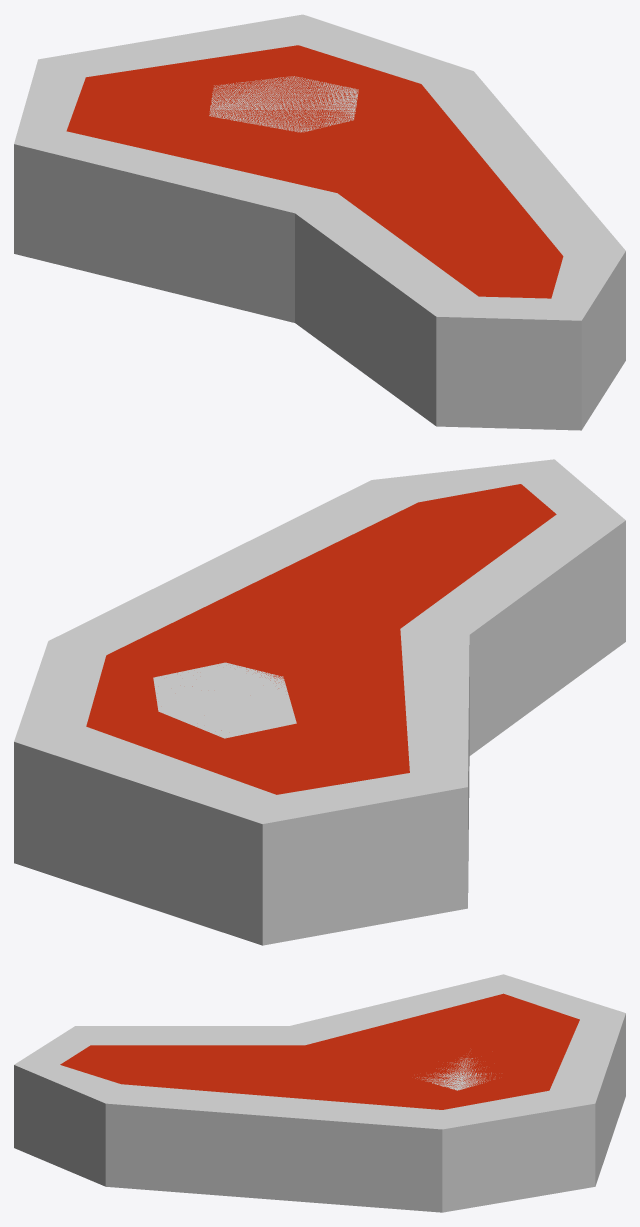
File: inv_ugthanki_meat.obj
The picture shows the model from 3 angles, top to bottom: view 1: azimuth 30°, elevation 25°; view 2: azimuth 150°, elevation 25°; view 3: azimuth 270°, elevation 25°; orthographic projection. The views are drawn at different scales.
Bounding box in the file's own units: 0.1875 × 0.0469 × 0.3125.
